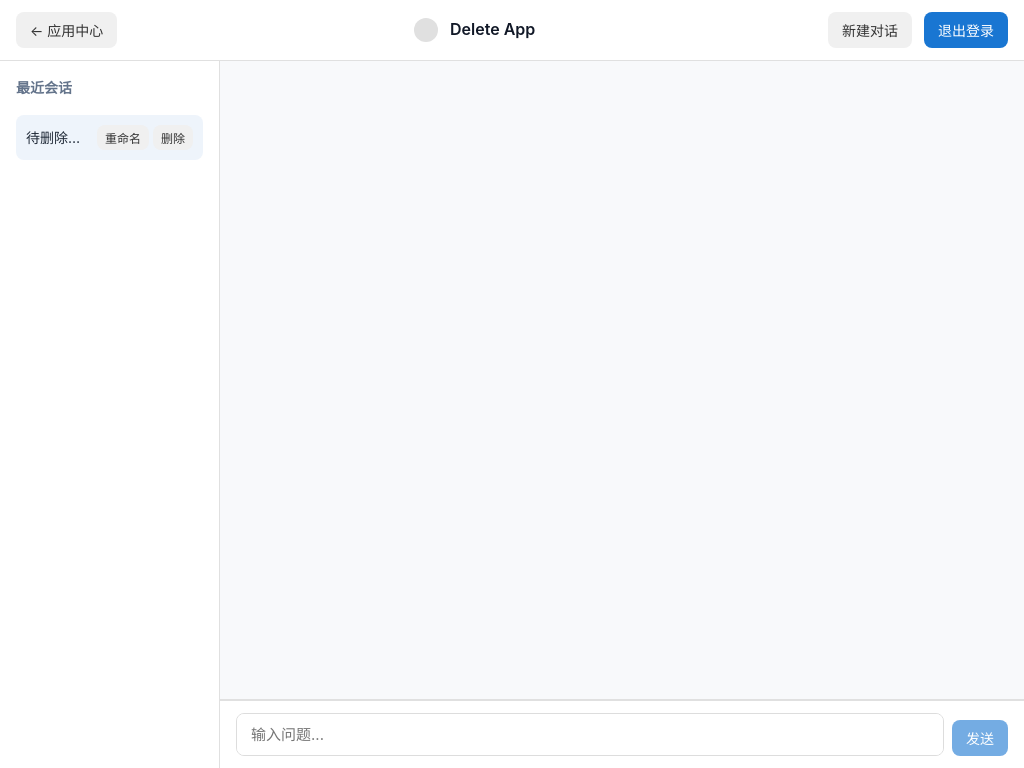
Test case: ChatPage latest conversation inputs restore › deletes a conversation without sending an empty JSON request body
This screenshot has width=1024, height=768.
Expected: the text "待删除会话" is shown, x1=26 y1=127 x2=89 y2=149
Click the button "删除" at (173, 138), box x1=153 y1=125 x2=193 y2=150
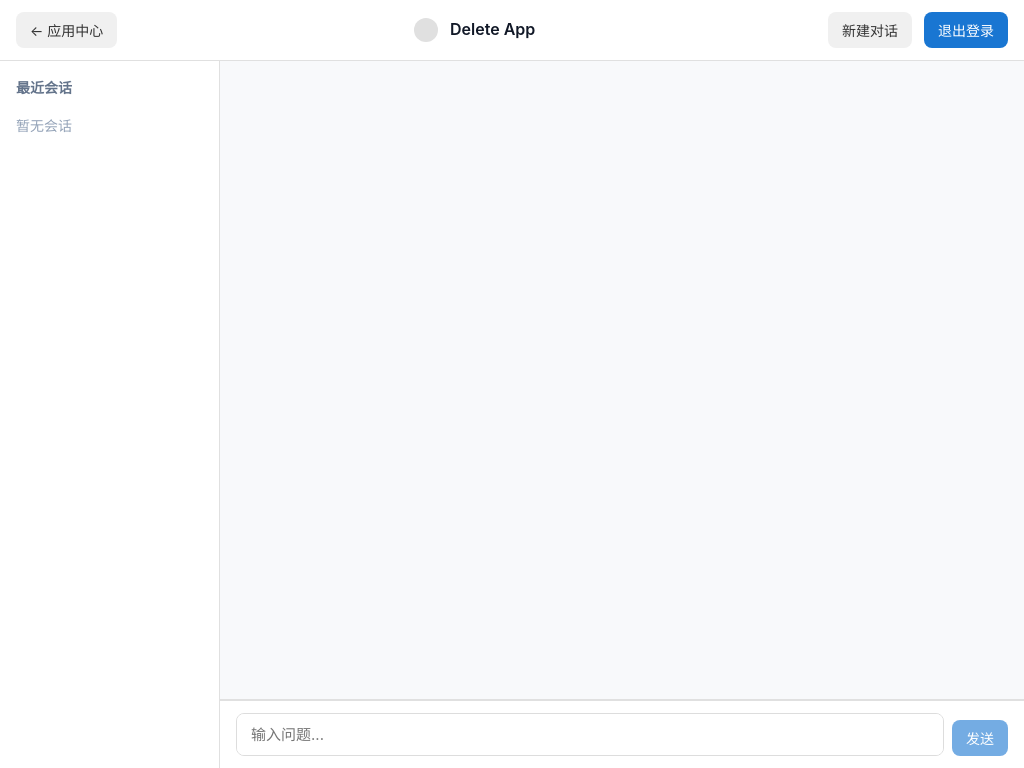
Expected: the text "待删除会话" is gone
